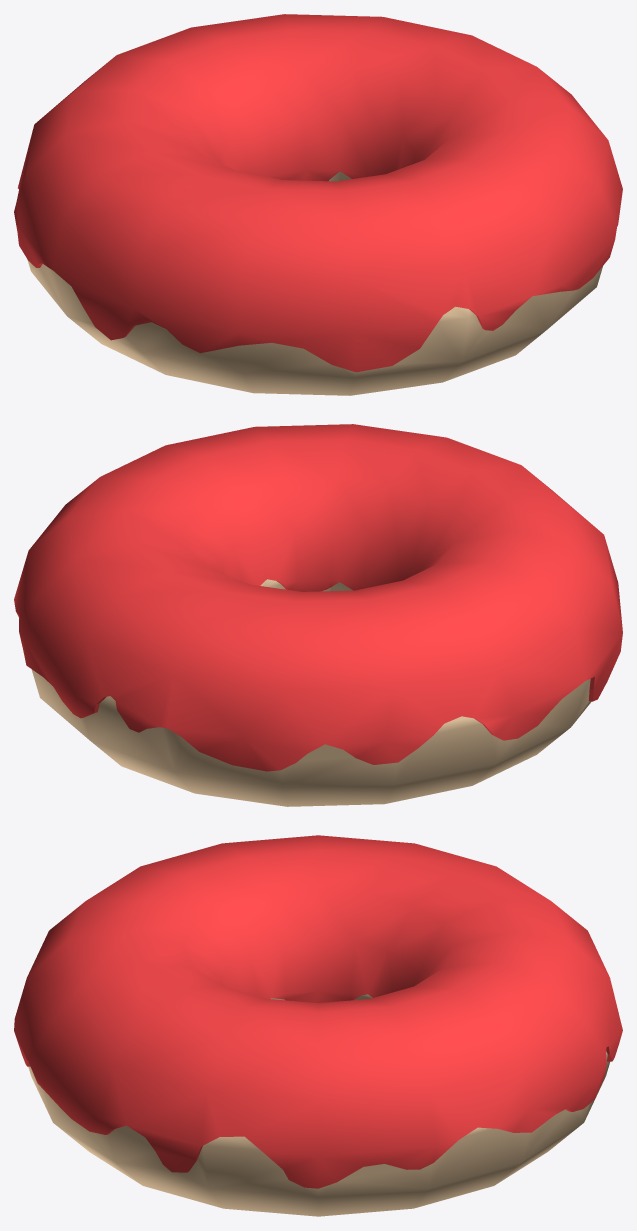
Rendered from red_donut.glb.
The picture shows the model from 3 angles, top to bottom: view 1: azimuth 30°, elevation 25°; view 2: azimuth 150°, elevation 25°; view 3: azimuth 270°, elevation 25°; orthographic projection.
Visible parts, largest first — view 1: Glaze, Donut; view 2: Glaze, Donut; view 3: Glaze, Donut.
Boxes of the visible parts, left/top/right/bottom form: Glaze: left=14, top=14, right=622, bottom=372; Donut: left=27, top=171, right=602, bottom=395; Glaze: left=14, top=424, right=622, bottom=771; Donut: left=31, top=579, right=591, bottom=806; Glaze: left=14, top=835, right=622, bottom=1188; Donut: left=28, top=994, right=609, bottom=1216.
Size of the model in its own units: 3.13 by 1.09 by 3.13.
2 materials, 2 textured.
